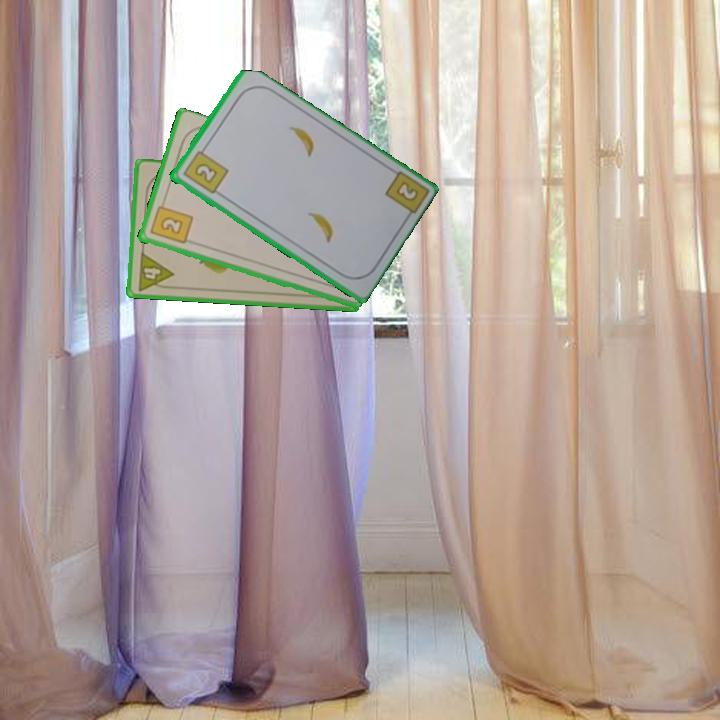2b: (179, 143, 231, 197), (146, 197, 195, 247), (392, 177, 421, 205)
4p: (134, 249, 176, 294)
